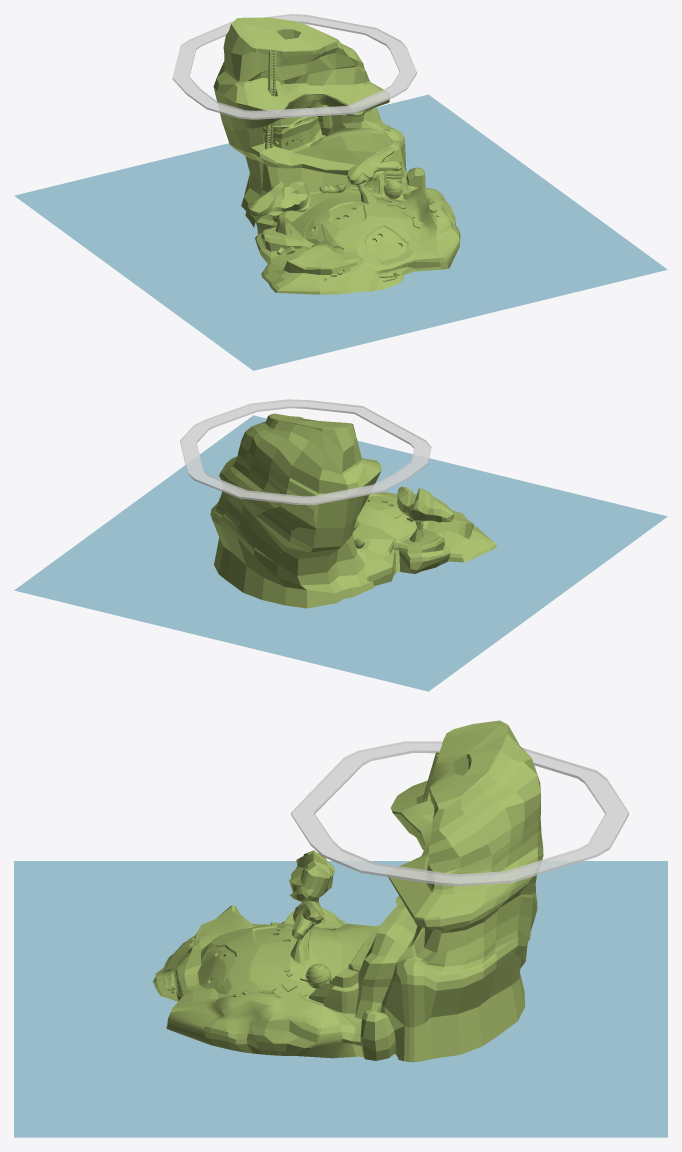
Rendered from island model.fbx.
3 views of the same model, one above another, from view 1: azimuth 30°, elevation 25°; view 2: azimuth 150°, elevation 25°; view 3: azimuth 270°, elevation 25° (orthographic). The views are drawn at different scales.
Visible parts, largest first — view 1: Waterline, CliffFaceAndStones, BaseIsland, Cloud, Trees, Ladder; view 2: Waterline, CliffFaceAndStones, BaseIsland, Cloud, Trees; view 3: Waterline, CliffFaceAndStones, BaseIsland, Cloud, Trees.
Part boxes in pixels (x1,y1,x2,y2): Waterline: (14, 94, 667, 370); CliffFaceAndStones: (213, 17, 439, 281); BaseIsland: (255, 184, 460, 294); Cloud: (172, 14, 416, 119); Trees: (249, 147, 401, 235); Ladder: (265, 49, 276, 149); Waterline: (14, 415, 667, 691); CliffFaceAndStones: (210, 413, 445, 608); BaseIsland: (352, 490, 496, 585); Cloud: (180, 399, 431, 505); Trees: (397, 486, 453, 542); Waterline: (14, 861, 667, 1137); CliffFaceAndStones: (163, 720, 543, 1062); BaseIsland: (153, 905, 379, 1058); Cloud: (291, 741, 628, 886); Trees: (289, 850, 334, 963).
Size of the model in its own units: 960 by 453 by 960.
